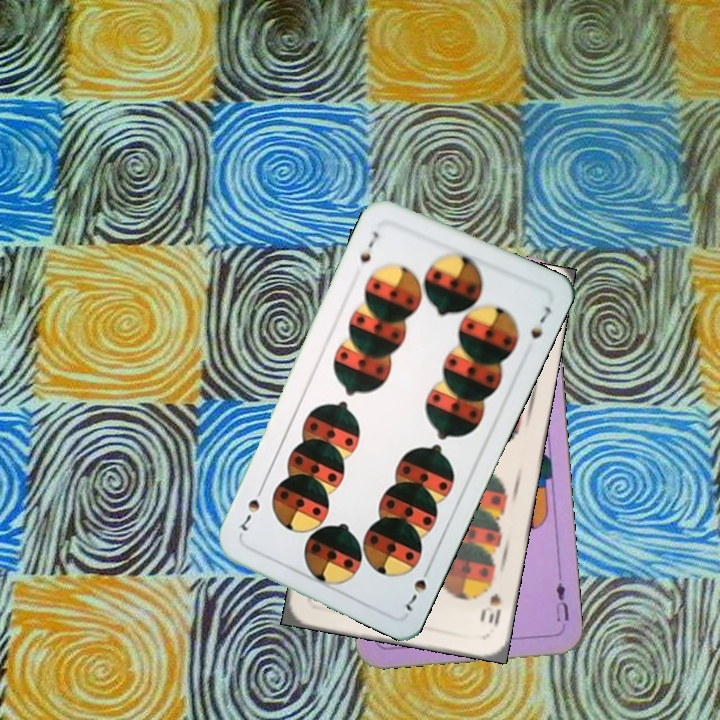EU: (551, 579, 572, 624)
S10: (484, 589, 504, 630)
S7: (401, 560, 434, 614), (355, 227, 381, 266)
